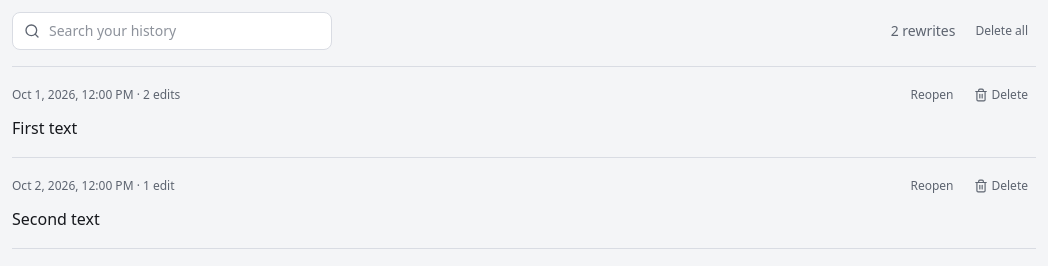
Test: HistoryList › finds entries by their text
Type "second" into the search field at (172, 31), box [12,12,332,50]
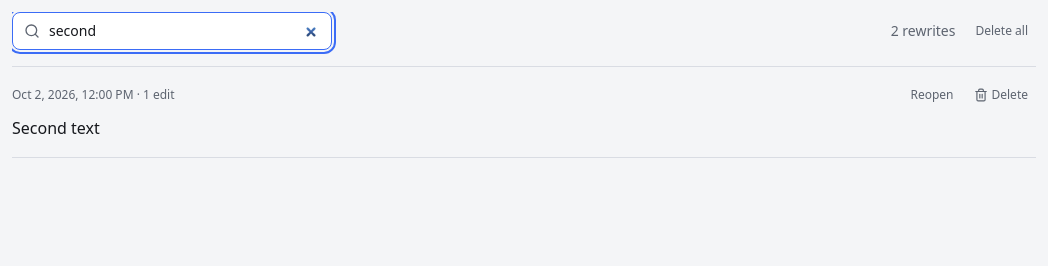
Expected: the text "Second text" is shown, [12,117,100,139]
Result: the text "First text" is gone
